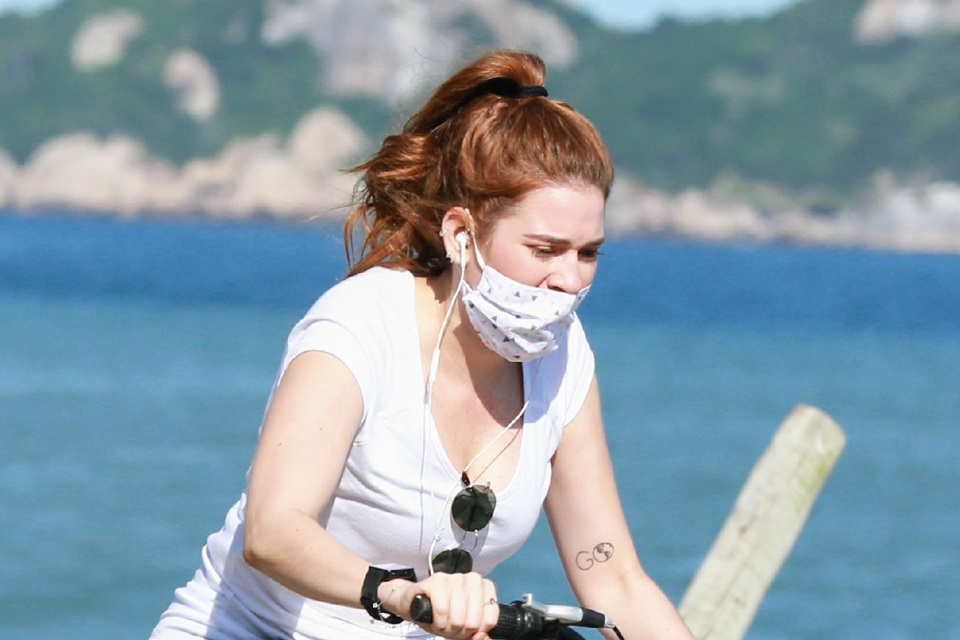mask_weared_incorrect: (443, 193, 616, 370)
